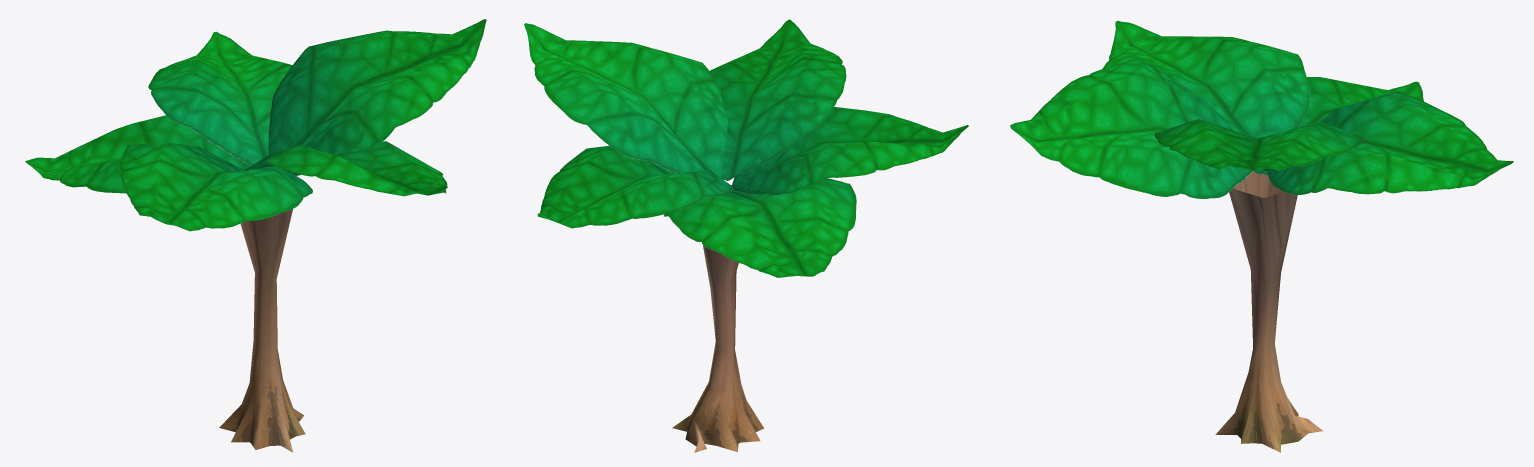
The model's file is superkasvi_taimi_kuihtunut.FBX.
The picture shows the model from 3 angles, left to right: view 1: azimuth 30°, elevation 25°; view 2: azimuth 150°, elevation 25°; view 3: azimuth 270°, elevation 25°; orthographic projection. The views are drawn at different scales.
Visible parts, largest first — view 1: Lehti5, Lehti2, Lehti4, Runko1, Lehti1, Lehti3; view 2: Lehti5, Lehti1, Lehti3, Lehti2, Lehti4, Runko1; view 3: Lehti1, Lehti4, Lehti2, Runko1, Lehti5, Lehti3.
Part boxes in pixels (x1,y1,x2,y2): Lehti5: (268,19,486,175); Lehti2: (119,142,312,231); Lehti4: (148,31,292,165); Runko1: (219,209,305,452); Lehti1: (244,141,447,196); Lehti3: (25,115,250,193); Lehti5: (524,23,728,179); Lehti1: (710,19,846,180); Lehti3: (664,178,856,277); Lehti2: (732,107,968,195); Lehti4: (537,145,732,228); Runko1: (672,185,763,452); Lehti1: (1010,58,1252,199); Lehti4: (1267,91,1513,194); Lehti2: (1102,20,1309,138); Runko1: (1215,171,1322,452); Lehti5: (1154,119,1364,170); Lehti3: (1253,77,1423,175).
Size of the model in its own units: 25.85 by 22.85 by 27.72.
